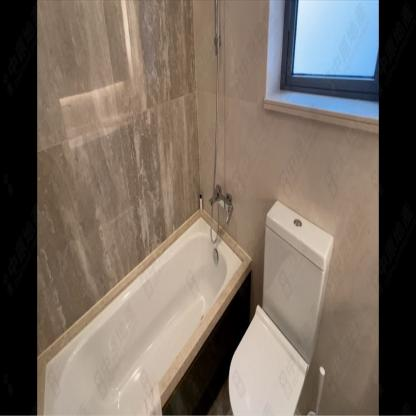Bathtub: (39, 205, 252, 413)
Toilet: (227, 195, 337, 415)
